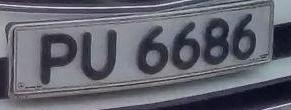6: (133, 20, 173, 81), (168, 17, 203, 77), (229, 10, 262, 63)
8: (201, 15, 234, 73)
P: (33, 28, 82, 89)
U: (76, 24, 125, 89)
